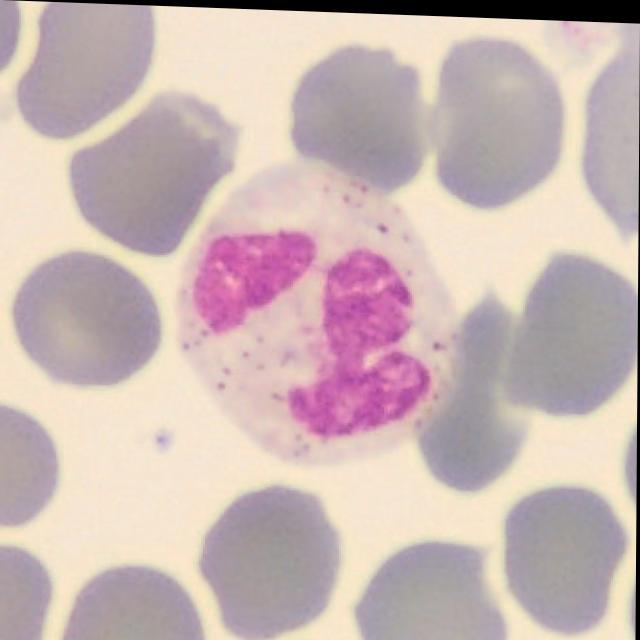Neutrofilo segmentado: (169, 157, 468, 471)
